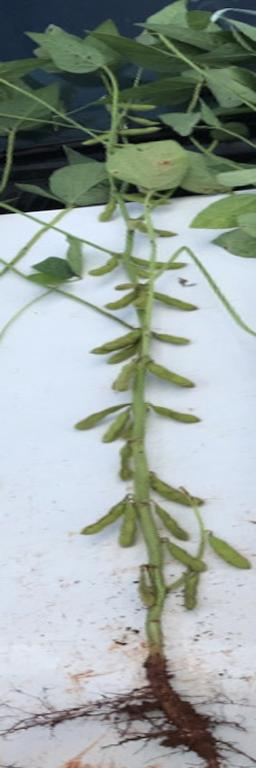pod: (141, 470, 209, 509), (78, 492, 129, 540), (143, 354, 200, 396), (205, 520, 251, 571), (164, 535, 210, 572), (151, 402, 204, 431), (120, 493, 140, 552), (102, 411, 134, 445), (154, 292, 201, 315), (104, 328, 142, 353), (147, 326, 192, 347), (97, 184, 120, 224), (87, 254, 121, 277)
soy: (14, 11, 252, 766)
